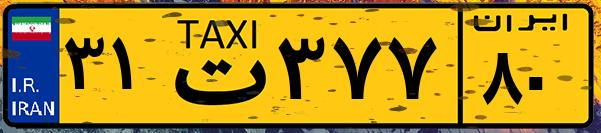0: (525, 38, 570, 115)
1: (110, 28, 158, 98)
3: (270, 28, 330, 110), (57, 26, 110, 100)
7: (385, 28, 445, 110), (330, 28, 385, 110)
8: (475, 38, 525, 113)
ت: (158, 12, 270, 120)
